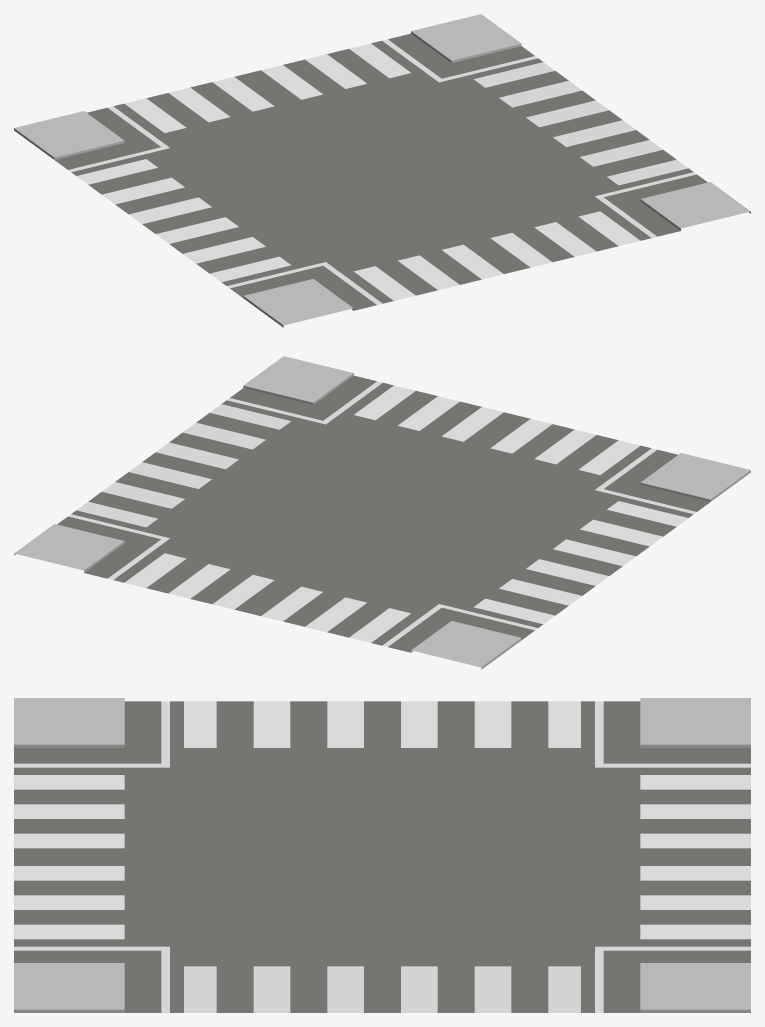
Rendered from Crossing.fbx.
3 renders of one model, top to bottom at view 1: azimuth 30°, elevation 25°; view 2: azimuth 150°, elevation 25°; view 3: azimuth 270°, elevation 25°, orthographic. The views are drawn at different scales.
Visible parts, largest first — view 1: Plane.004; view 2: Plane.004; view 3: Plane.004.
Boxes of the visible parts, x1,y1,x2,y2 form: Plane.004: [14, 14, 750, 327]; Plane.004: [14, 356, 750, 669]; Plane.004: [14, 698, 750, 1012].
Bounding box in the file's own units: 15 × 0.075 × 15.
